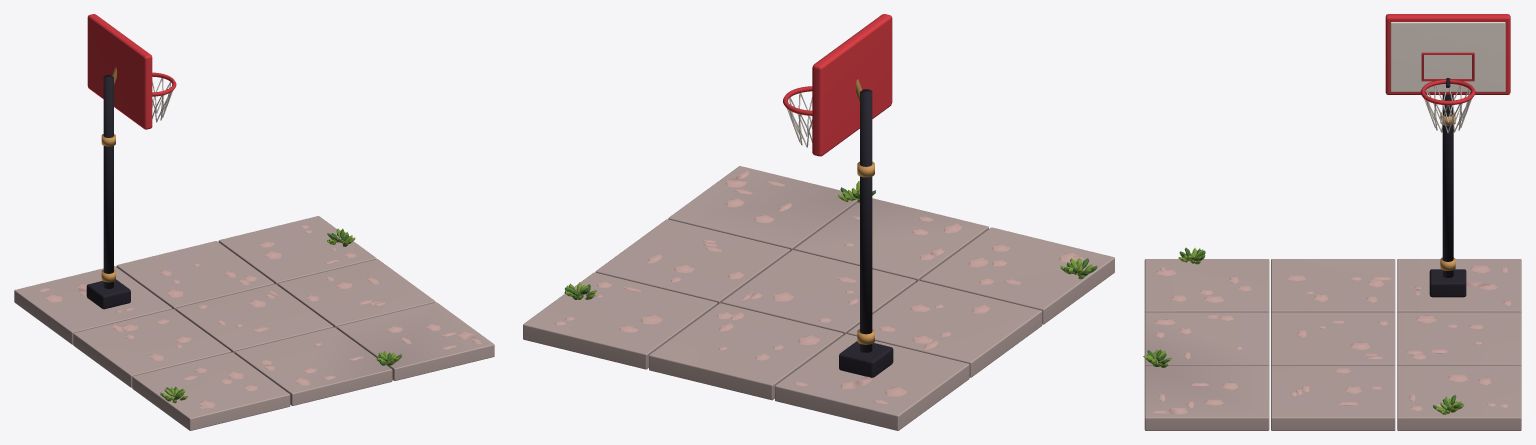
Rendered from house.driveway.hoop.glb.
3 views of the same model, side by side, from view 1: azimuth 30°, elevation 25°; view 2: azimuth 150°, elevation 25°; view 3: azimuth 270°, elevation 25° (orthographic). The views are drawn at different scales.
Size of the model in its own units: 3.03 by 2.57 by 3.
